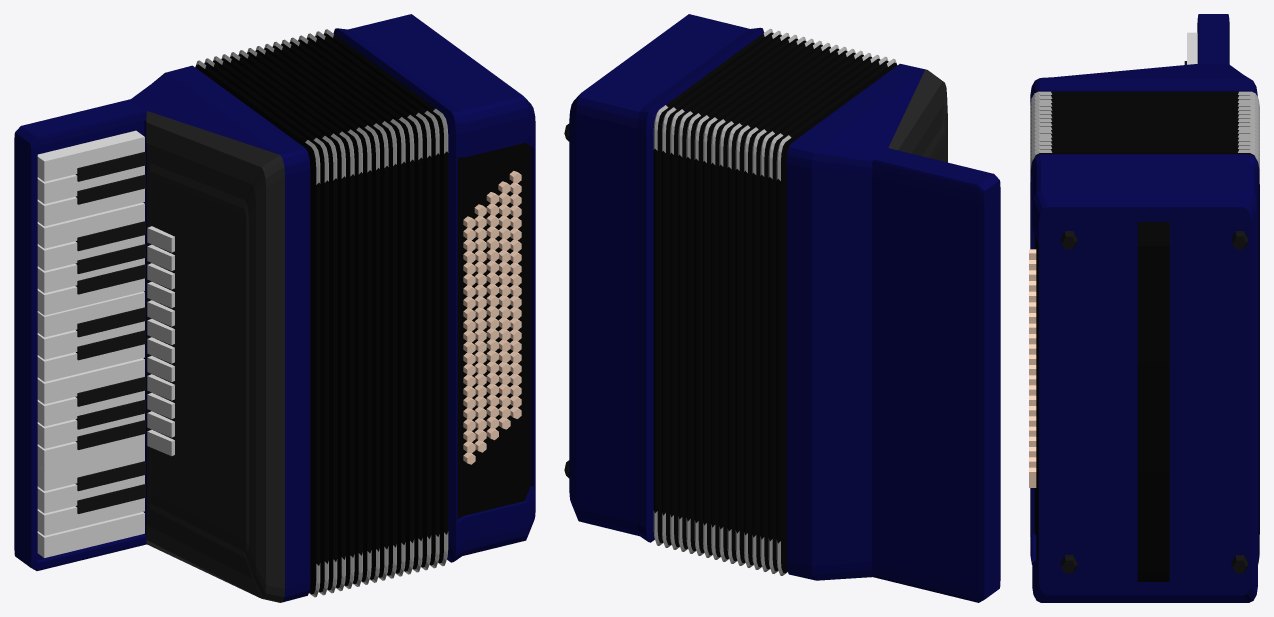
Rendered from Accordion11.fbx.
The picture shows the model from 3 angles, left to right: view 1: azimuth 30°, elevation 25°; view 2: azimuth 150°, elevation 25°; view 3: azimuth 270°, elevation 25°; orthographic projection. The views are drawn at different scales.
Visible parts, largest first — view 1: Cube.018; view 2: Cube.018; view 3: Cube.018.
Part boxes in pixels (x1,y1,x2,y2): Cube.018: [14, 14, 535, 602]; Cube.018: [564, 14, 1000, 602]; Cube.018: [1029, 14, 1259, 602].
Size of the model in its own units: 57.38 by 54.85 by 27.33.
